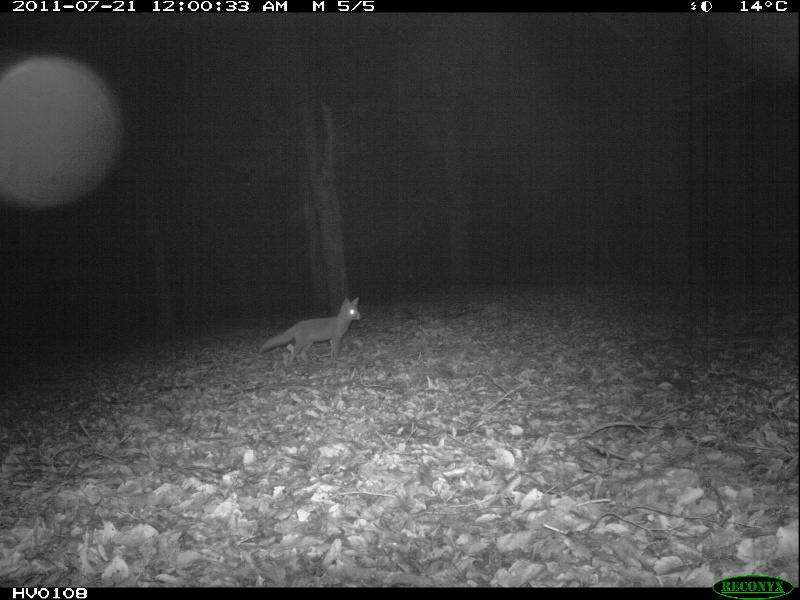fox: (261, 298, 365, 371)
